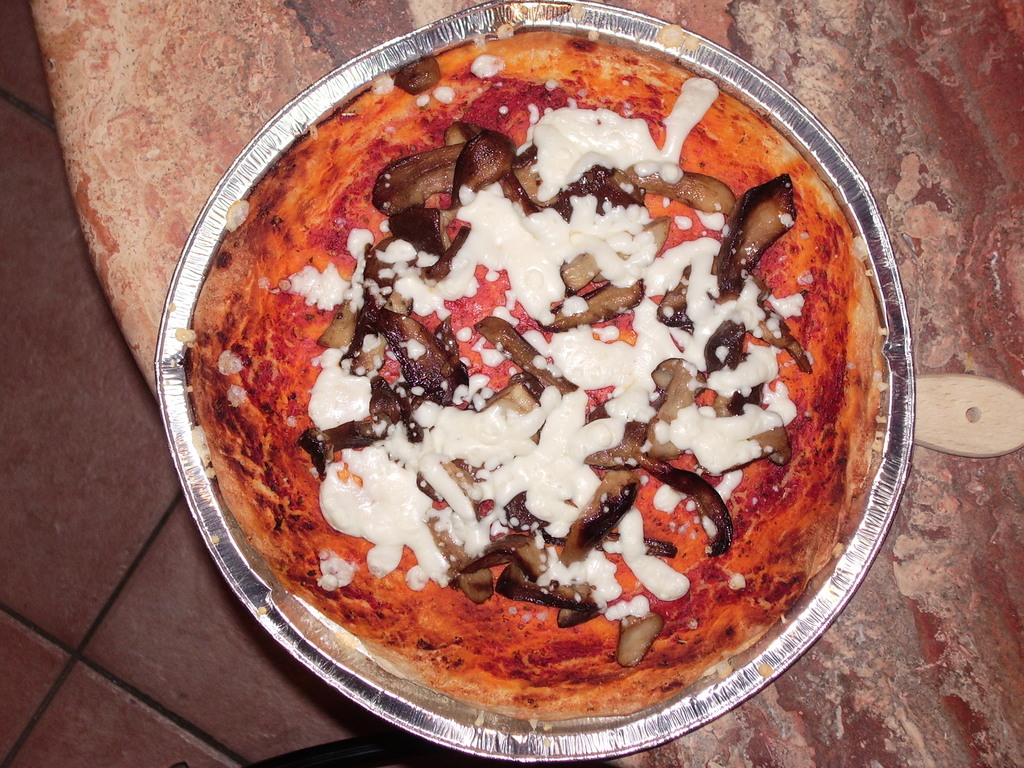Pizza: (172, 20, 903, 757)
